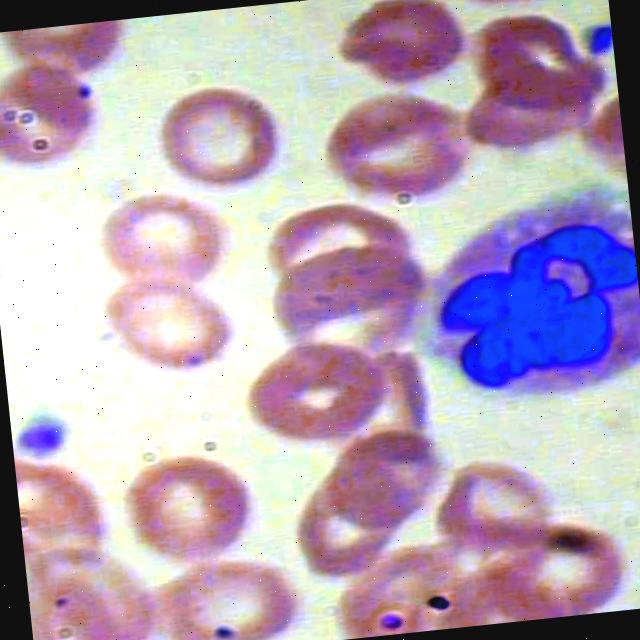Platelets: (8, 411, 74, 462), (573, 13, 614, 59)
RBC: (304, 80, 481, 211), (463, 0, 614, 129), (121, 450, 270, 574), (235, 332, 387, 453), (90, 269, 248, 385), (134, 536, 304, 640), (150, 75, 288, 192), (320, 426, 450, 544), (94, 192, 233, 294), (501, 516, 630, 622), (336, 0, 470, 94), (0, 58, 101, 175)
WBC: (406, 178, 640, 417)
